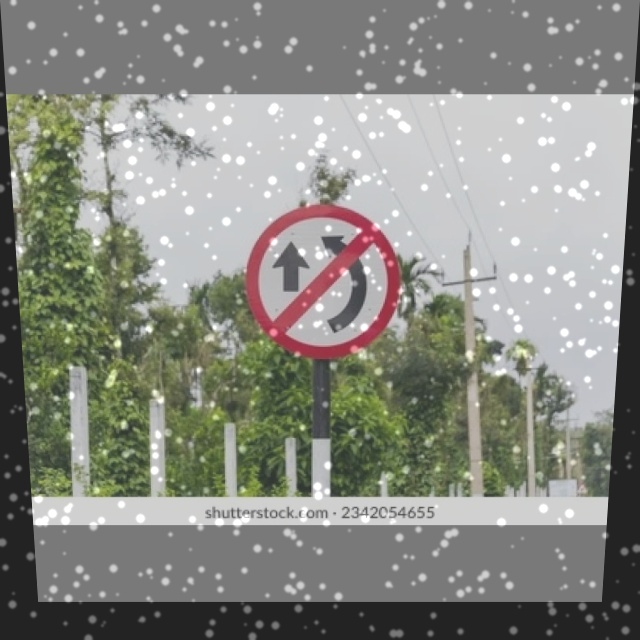Overtaking_Prohibited: (245, 209, 404, 362)
